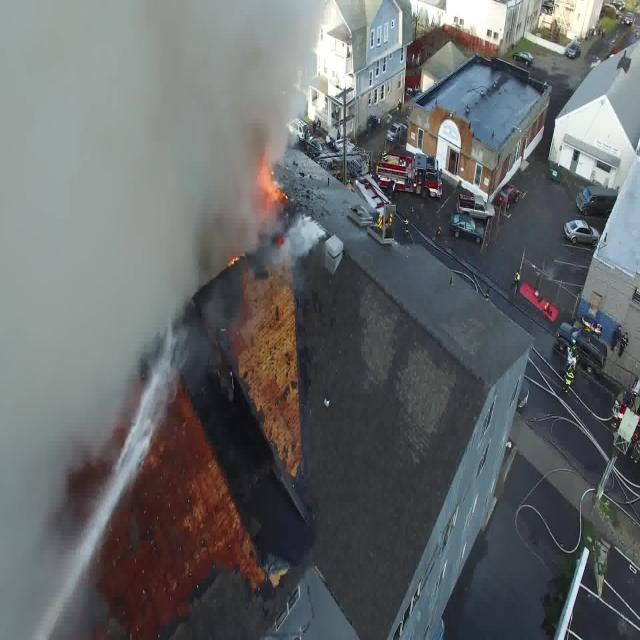Fire: (237, 140, 297, 229)
Smoke: (0, 6, 320, 263), (0, 209, 158, 637)
